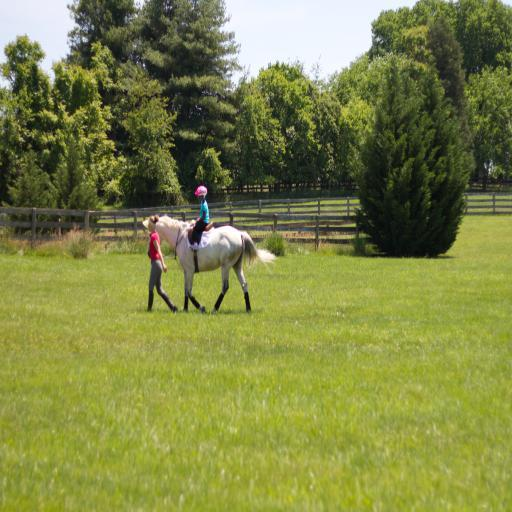Horse: (142, 215, 278, 315)
